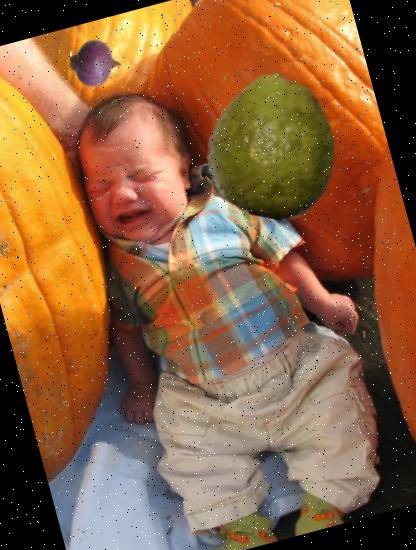Guava: (186, 57, 364, 235)
Onion: (65, 32, 127, 94)
